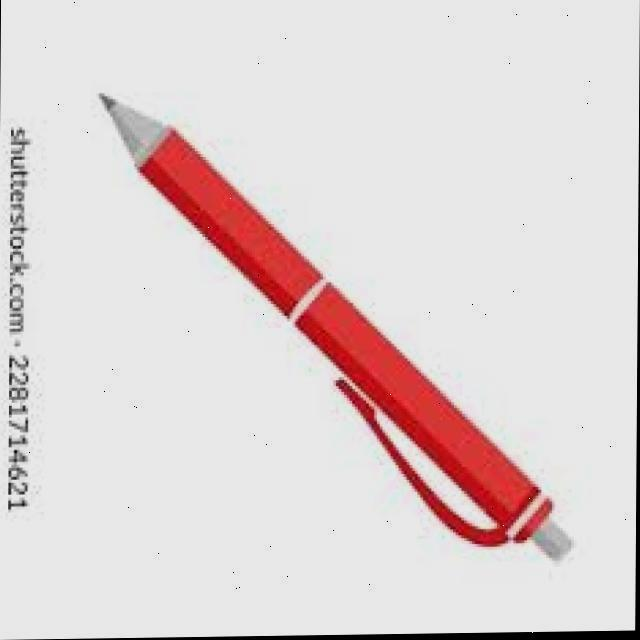pen: (95, 85, 582, 571)
